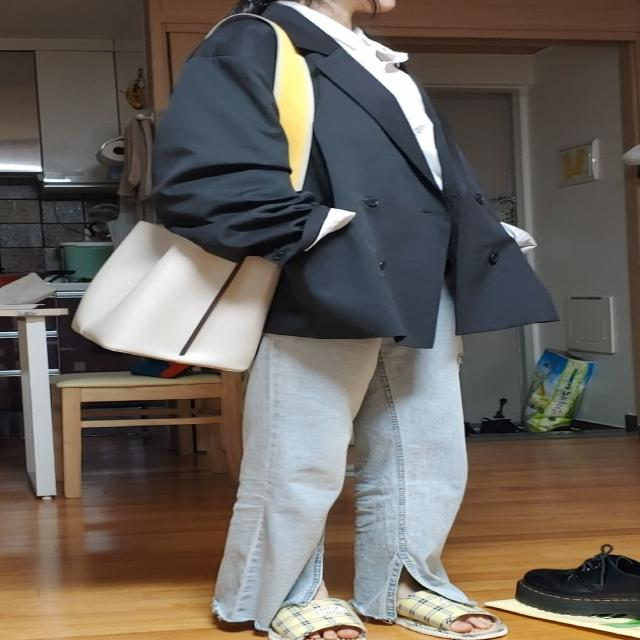blazer: (149, 0, 563, 348)
denimpants: (211, 266, 474, 638)
